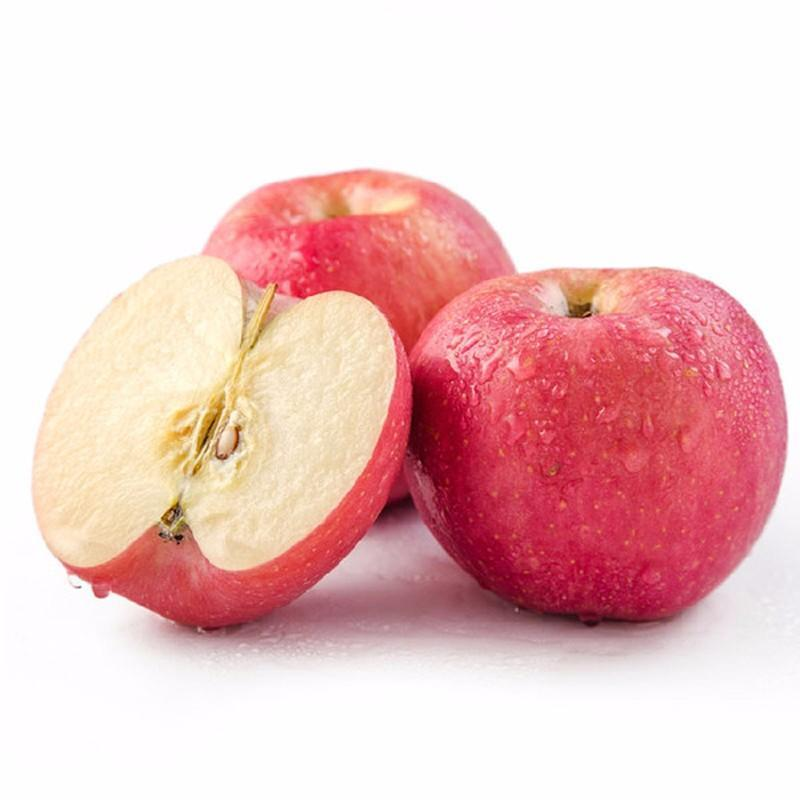apple: (410, 263, 791, 622), (199, 167, 516, 356)
